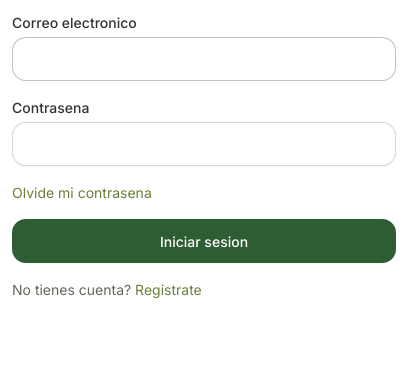
it: LoginForm › muestra errores de validacion con el formulario vacio
Click the button "Iniciar sesion" at [204, 241], box [12,219,396,263]
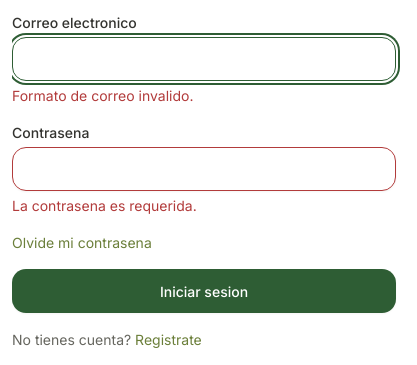
Expected: the text "Formato de correo invalido." is shown, [12,87,194,104]
Expected: the text "La contrasena es requerida." is shown, [12,197,197,214]
